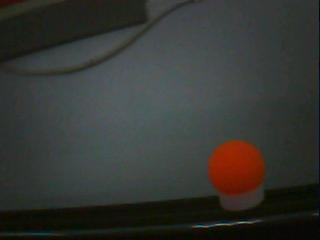oball: (208, 140, 263, 195)
